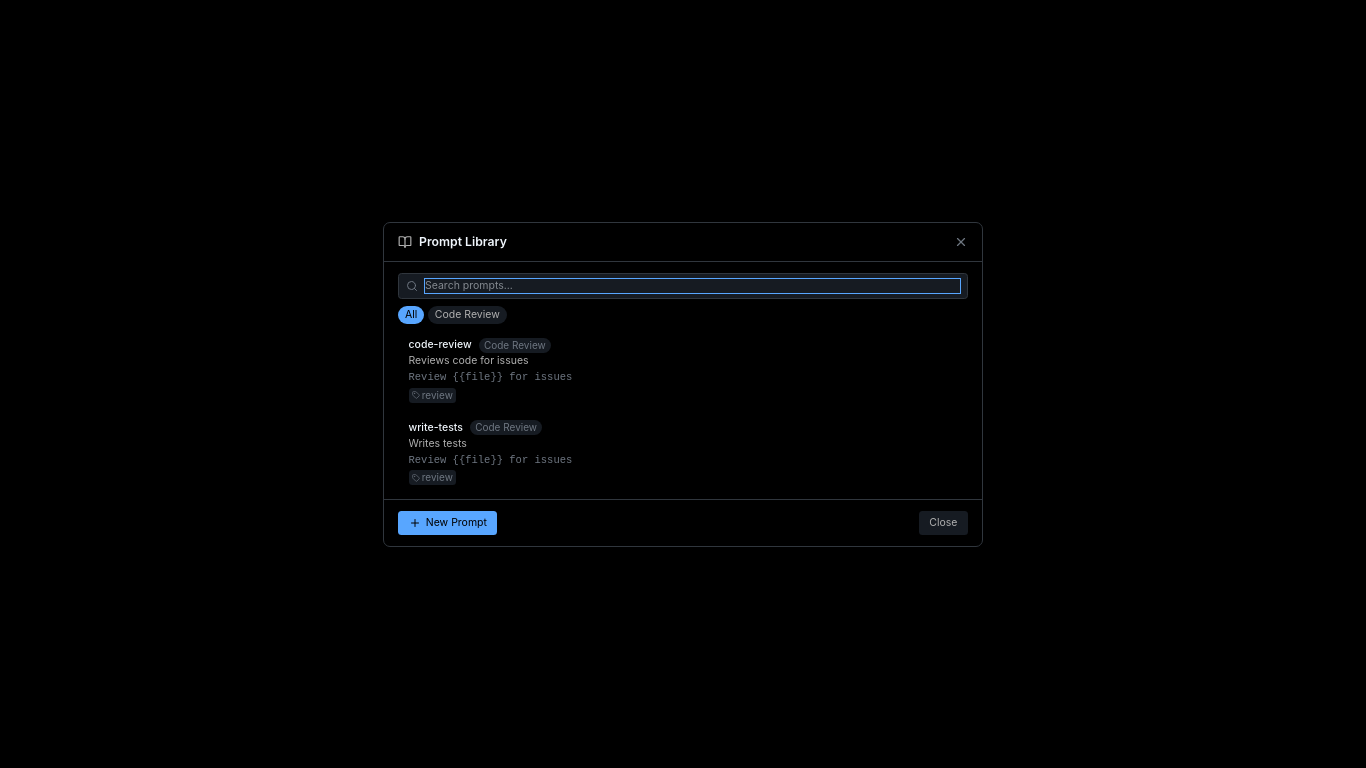
Test: PromptLibraryDialog › filters prompts by search query on name
Type "write" into the field with placeholder "Search prompts...". click: {"x": 692, "y": 286}
box: top-left (425, 279), bottom-right (960, 293)
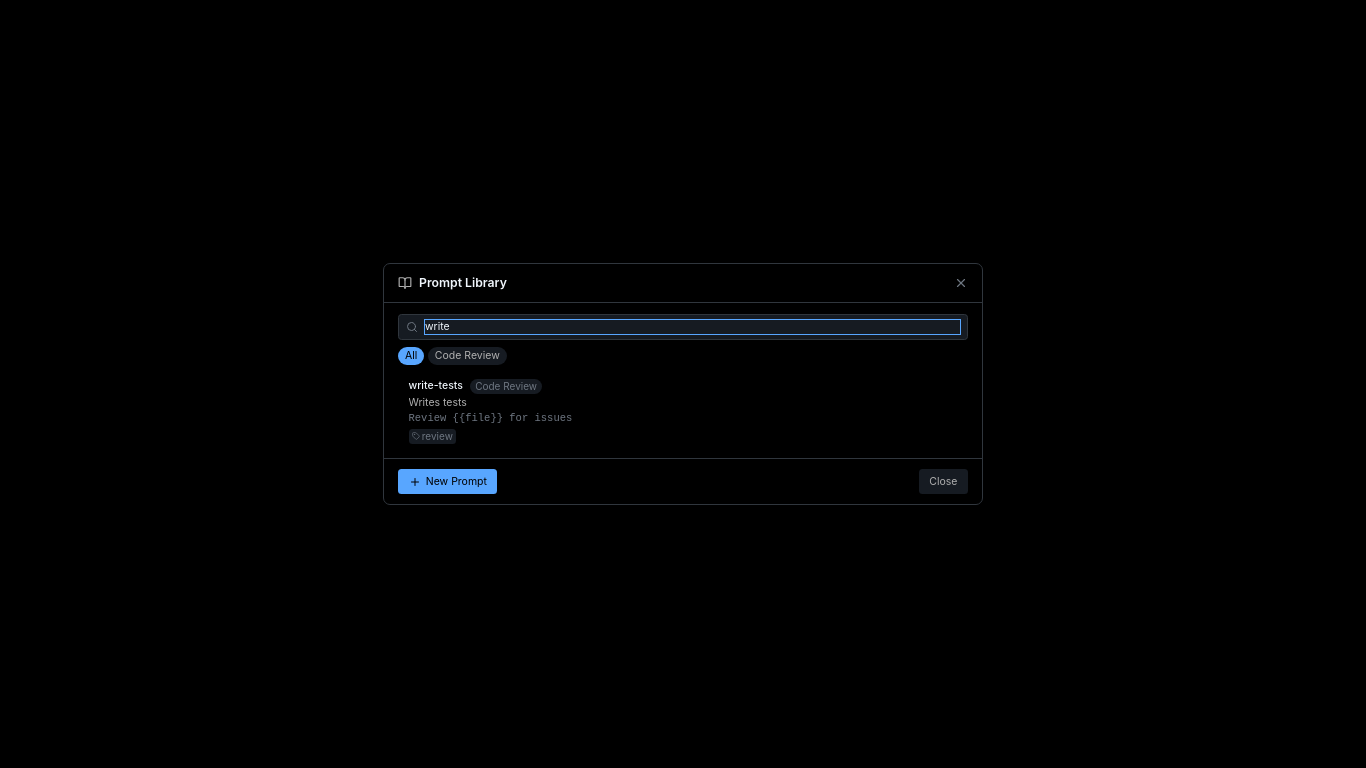
Expected: the text "write-tests" is shown, top-left (408, 379), bottom-right (463, 393)
Now the button "code-review" is gone
